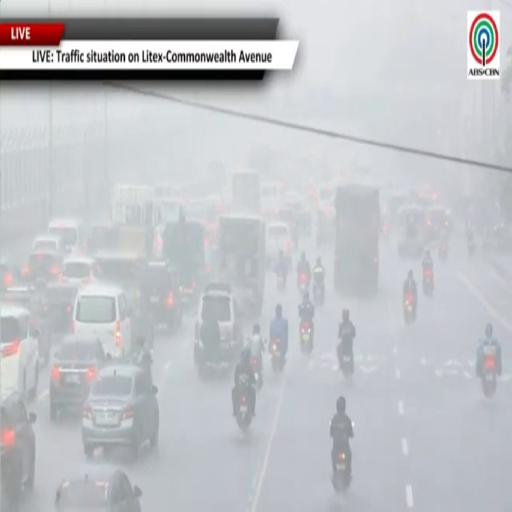car: (82, 363, 159, 458), (49, 338, 106, 421), (0, 392, 36, 510), (73, 285, 131, 357), (0, 286, 51, 363), (195, 283, 241, 365), (0, 302, 38, 397), (55, 470, 142, 511), (139, 262, 182, 329), (94, 251, 145, 306), (44, 282, 78, 340), (23, 250, 63, 283), (47, 219, 85, 252), (266, 222, 293, 267), (61, 256, 97, 284), (32, 233, 65, 252), (0, 259, 20, 290)
motorcycle: (333, 450, 351, 491), (481, 357, 497, 397), (236, 391, 252, 430), (337, 343, 354, 378), (251, 358, 263, 390), (300, 323, 312, 355), (404, 292, 415, 324), (271, 340, 282, 372), (423, 267, 434, 297), (313, 282, 324, 307), (298, 272, 309, 295), (438, 242, 447, 262), (277, 272, 285, 291), (468, 240, 476, 257), (382, 224, 389, 238)
truck: (334, 184, 380, 296), (218, 214, 265, 316), (232, 170, 260, 215)
